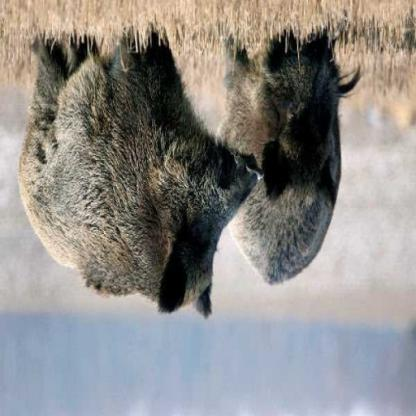boar: (22, 9, 258, 331), (226, 18, 379, 280)
